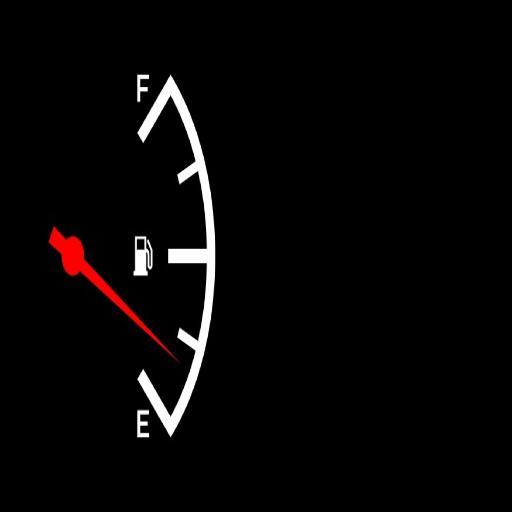empty: (136, 407, 150, 439)
fuel_icon: (133, 232, 153, 279)
full: (134, 64, 150, 106)
guage_area: (42, 57, 214, 448)
needle_center: (60, 231, 86, 279)
needle_tip: (156, 338, 178, 370)
